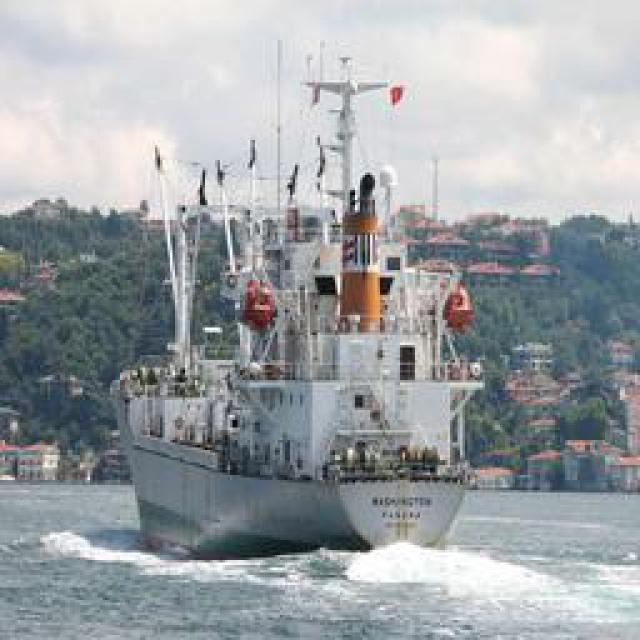Ship: (122, 43, 485, 558)
